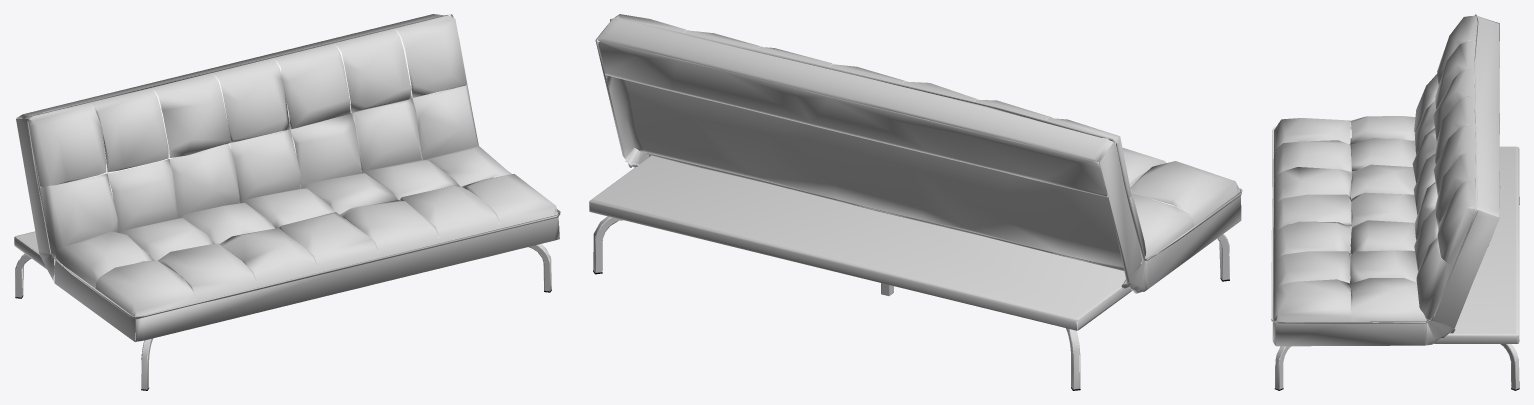
Rendered from sofa_bed.glb.
3 views of the same model, side by side, from view 1: azimuth 30°, elevation 25°; view 2: azimuth 150°, elevation 25°; view 3: azimuth 270°, elevation 25° (orthographic). The views are drawn at different scales.
Parts seen in each view (by area): view 1: FABRIC001, STEEL001, FABRIC_BLACK001; view 2: FABRIC_BLACK001, FABRIC001, STEEL001; view 3: FABRIC001, FABRIC_BLACK001, STEEL001.
Part boxes in pixels (x1,y1,x2,y2): FABRIC001: (16, 14, 560, 341); STEEL001: (15, 244, 551, 389); FABRIC_BLACK001: (14, 152, 499, 341); FABRIC_BLACK001: (589, 41, 1146, 330); FABRIC001: (595, 14, 1242, 291); STEEL001: (593, 216, 1229, 389); FABRIC001: (1271, 14, 1499, 346); FABRIC_BLACK001: (1347, 68, 1519, 344); STEEL001: (1275, 197, 1519, 389).
Size of the model in its own units: 178 by 79.04 by 95.
1 material, 1 textured.
